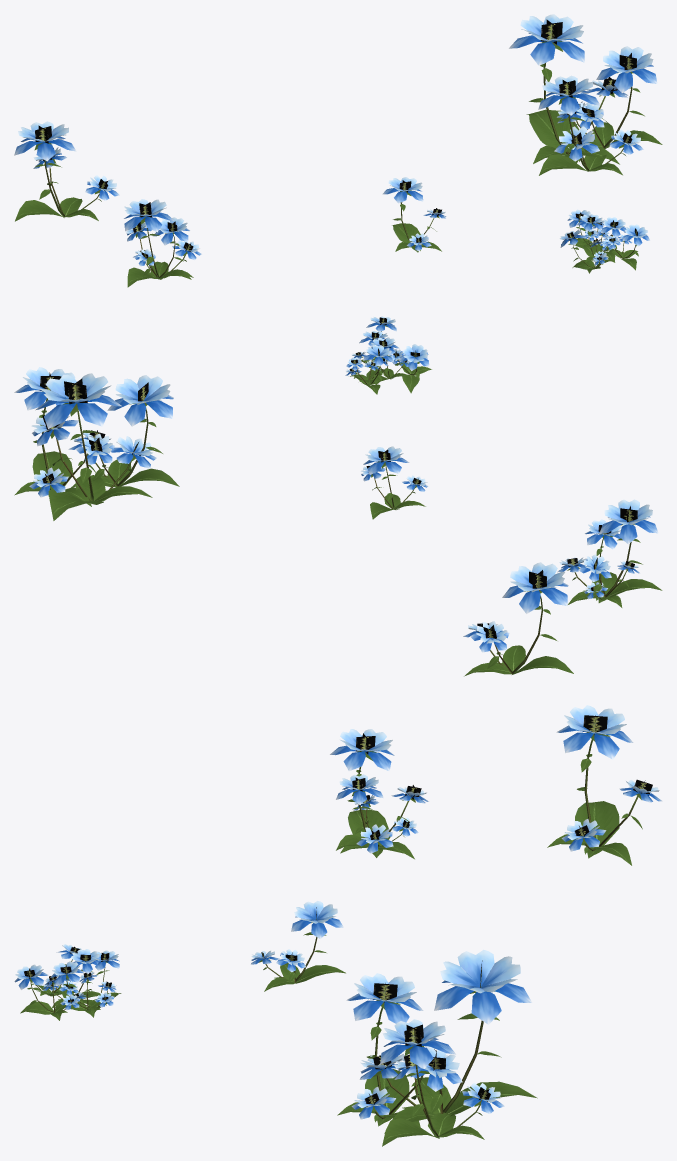
Rendered from world_plants_center_pit_v01.fbx.
The picture shows the model from 3 angles, top to bottom: view 1: azimuth 30°, elevation 25°; view 2: azimuth 150°, elevation 25°; view 3: azimuth 270°, elevation 25°; orthographic projection. The views are drawn at different scales.
Visible parts, largest first — view 1: blue_flower.013, blue_flower, blue_flower.011, blue_flower.012, blue_flower.005, blue_flower.006, blue_flower.004, blue_flower.009, blue_flower.001, blue_flower.007, blue_flower.008, blue_flower.010; view 2: blue_flower.013, blue_flower, blue_flower.011, blue_flower.005, blue_flower.012, blue_flower.006, blue_flower.004, blue_flower.001, blue_flower.010, blue_flower.007, blue_flower.008; view 3: blue_flower.013, blue_flower, blue_flower.012, blue_flower.011, blue_flower.005, blue_flower.006, blue_flower.004, blue_flower.009, blue_flower.008, blue_flower.007, blue_flower.010.
Part boxes in pixels (x1,y1,x2,y2): blue_flower.013: (509, 14, 627, 164); blue_flower: (14, 121, 119, 221); blue_flower.011: (538, 75, 643, 175); blue_flower.012: (557, 46, 662, 148); blue_flower.005: (124, 199, 201, 287); blue_flower.006: (382, 177, 446, 252); blue_flower.004: (133, 217, 191, 279); blue_flower.009: (605, 224, 650, 270); blue_flower.001: (559, 229, 612, 273); blue_flower.007: (576, 214, 615, 262); blue_flower.008: (584, 217, 626, 261); blue_flower.010: (567, 209, 612, 251); blue_flower.013: (31, 373, 156, 520); blue_flower: (463, 562, 573, 676); blue_flower.011: (68, 375, 179, 487); blue_flower.005: (557, 499, 662, 604); blue_flower.012: (14, 367, 111, 506); blue_flower.006: (361, 446, 428, 519); blue_flower.004: (577, 519, 639, 607); blue_flower.001: (389, 344, 431, 393); blue_flower.010: (346, 345, 393, 394); blue_flower.007: (368, 337, 409, 385); blue_flower.008: (345, 330, 388, 385); blue_flower.013: (359, 949, 537, 1133); blue_flower: (547, 705, 662, 865); blue_flower.012: (380, 1019, 504, 1146); blue_flower.011: (337, 973, 447, 1127); blue_flower.005: (330, 729, 428, 859); blue_flower.006: (251, 901, 345, 991); blue_flower.004: (336, 774, 418, 851); blue_flower.009: (14, 964, 80, 1020); blue_flower.008: (50, 961, 114, 1017); blue_flower.007: (42, 949, 100, 1008); blue_flower.010: (73, 950, 121, 1014).
Size of what is drawn, in the model's own units: 565 by 115 by 445.
